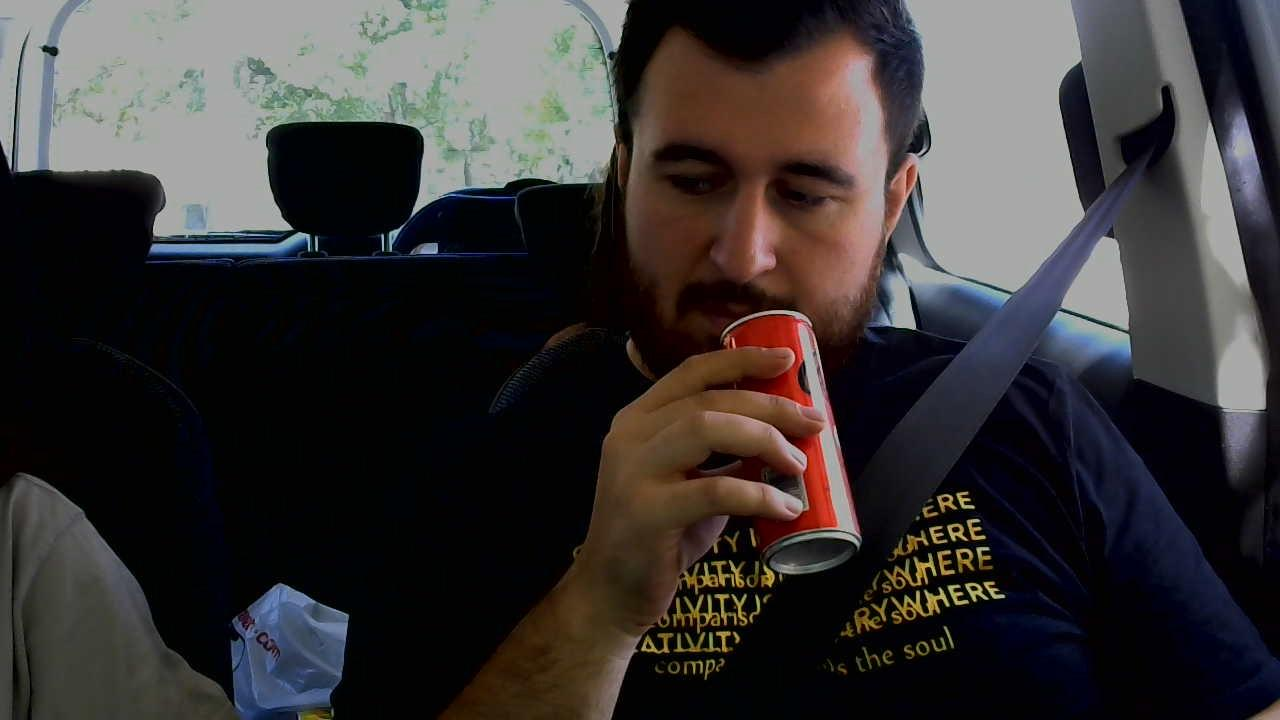Drinking: (614, 25, 921, 578)
